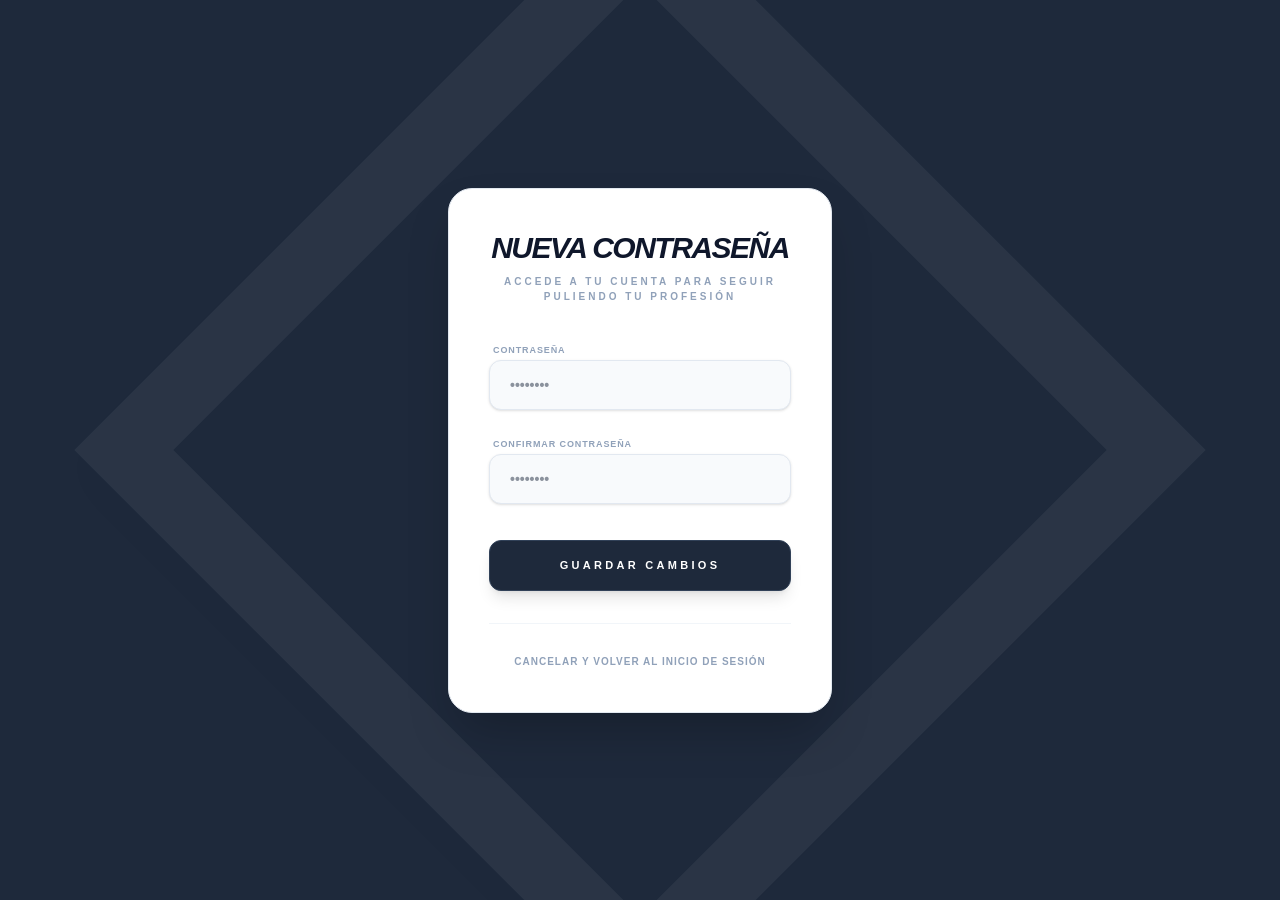
ResetPasswordPage › muestra el error del backend si resetPassword falla
The image size is (1280, 900).
Type "abcde12" into the 1st password field with placeholder "••••••••" at (640, 385), box [489, 360, 791, 410]
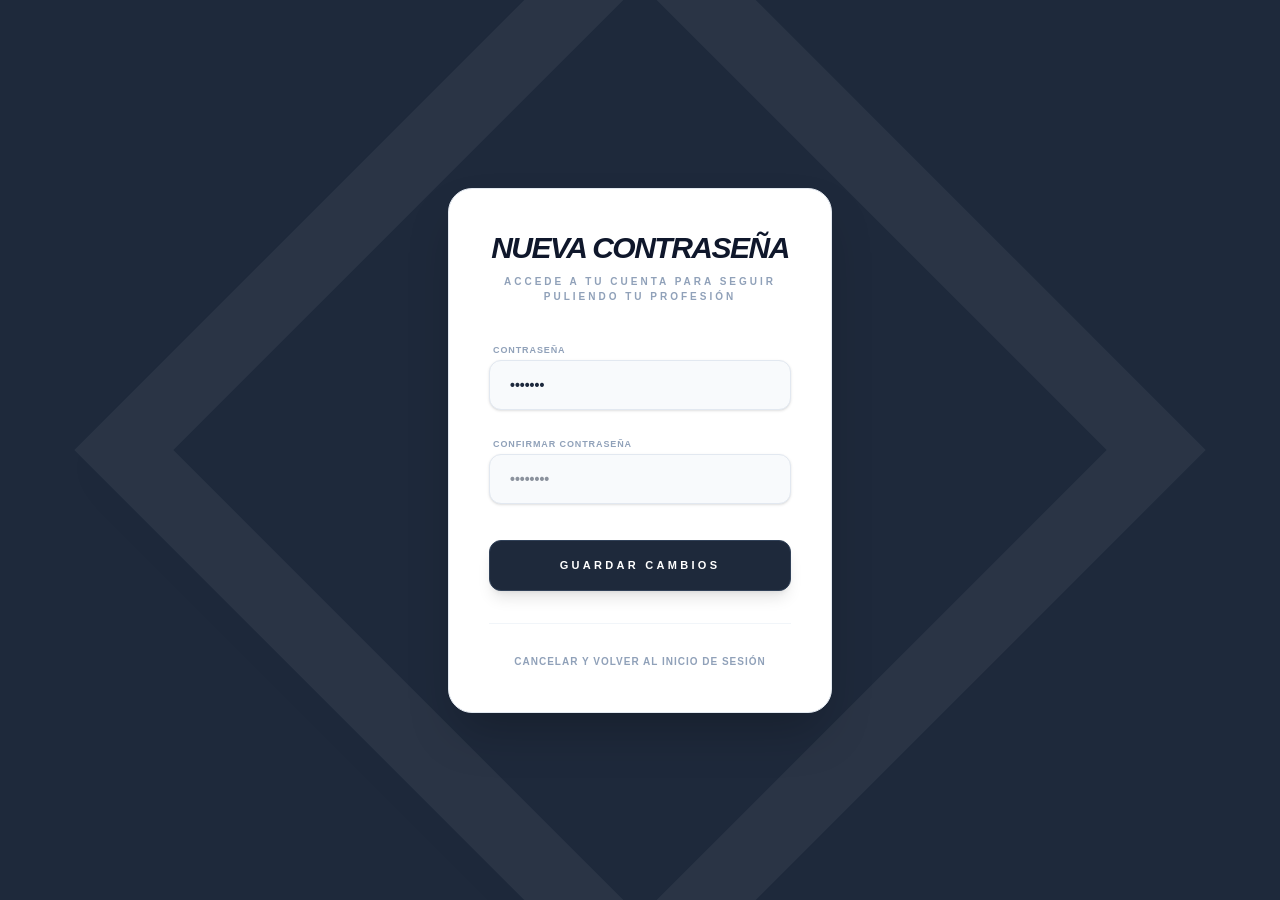
Type "abcde12" into the password field with placeholder "••••••••" at (640, 479), box [489, 454, 791, 504]
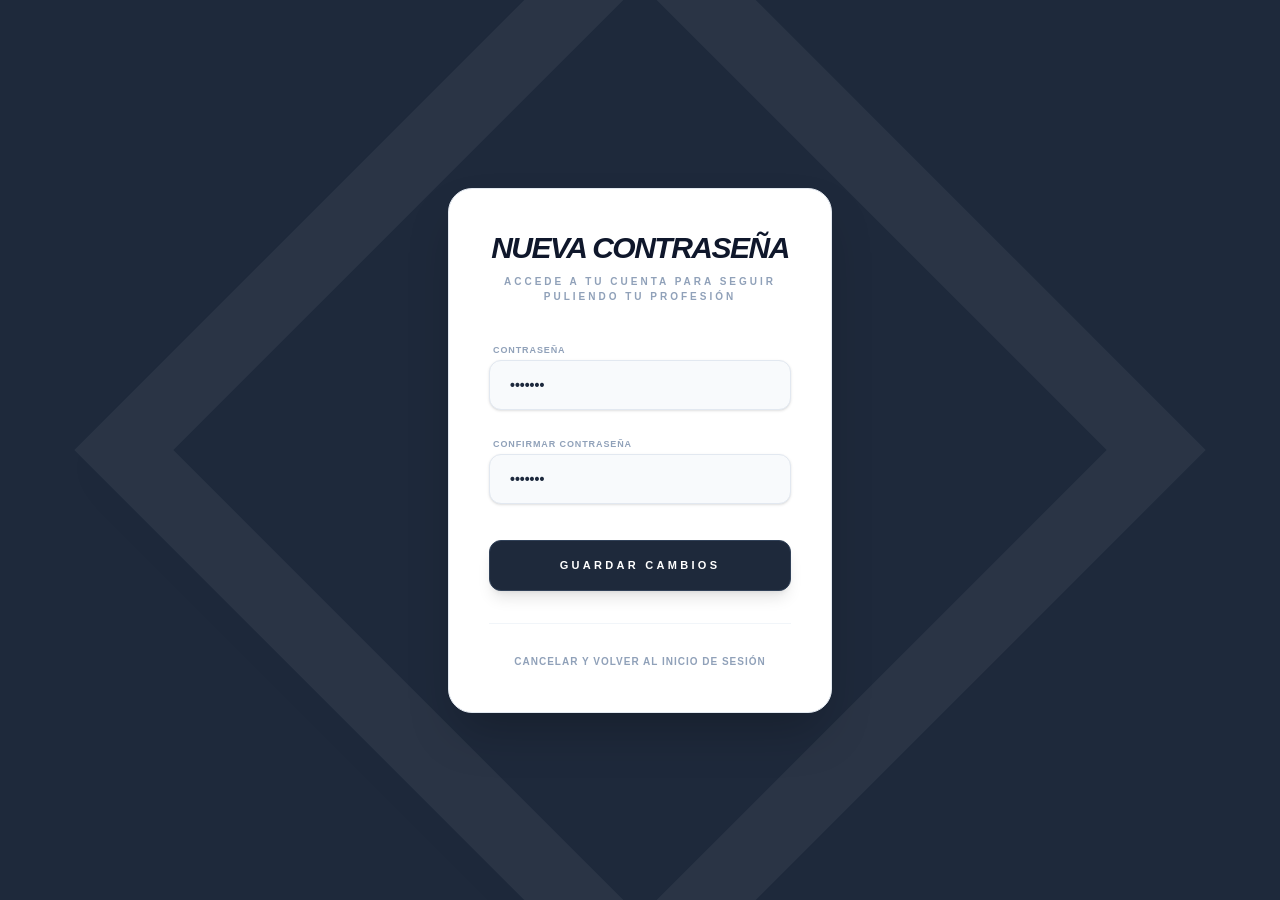
Click the button "Guardar Cambios" at (640, 565), box [489, 540, 791, 590]
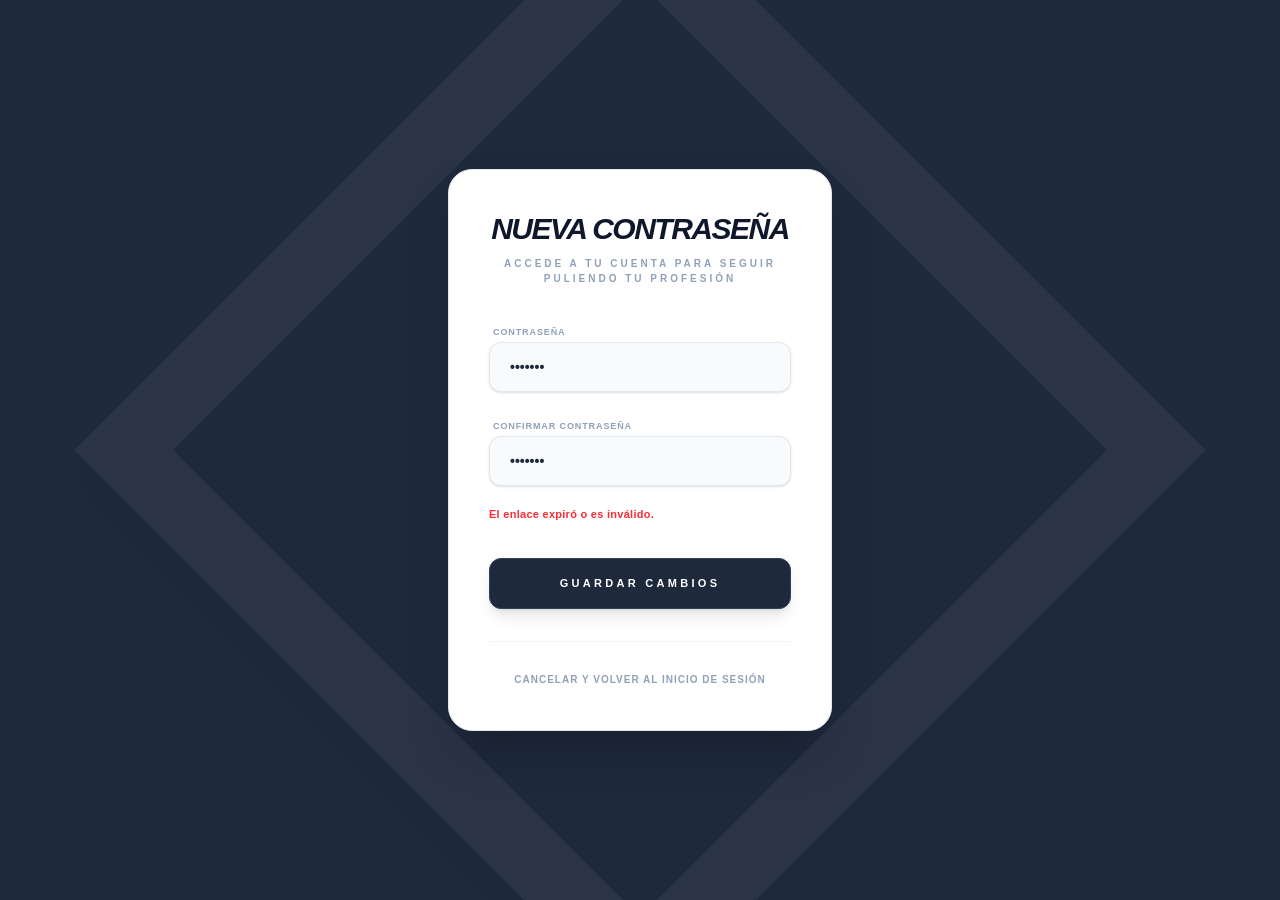
Now the text "El enlace expiró o es inválido." is shown, box [489, 508, 654, 520]
